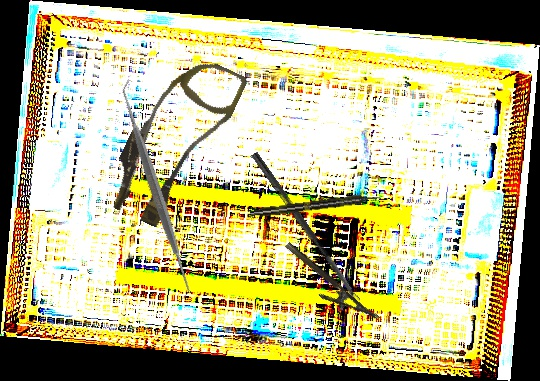Cannula: (99, 43, 249, 237)
Handpiece: (249, 192, 382, 219)
Needle Holder: (274, 241, 381, 335)
Spatula Surgical: (44, 79, 268, 300)
Surgical Spoon: (250, 151, 361, 305)
